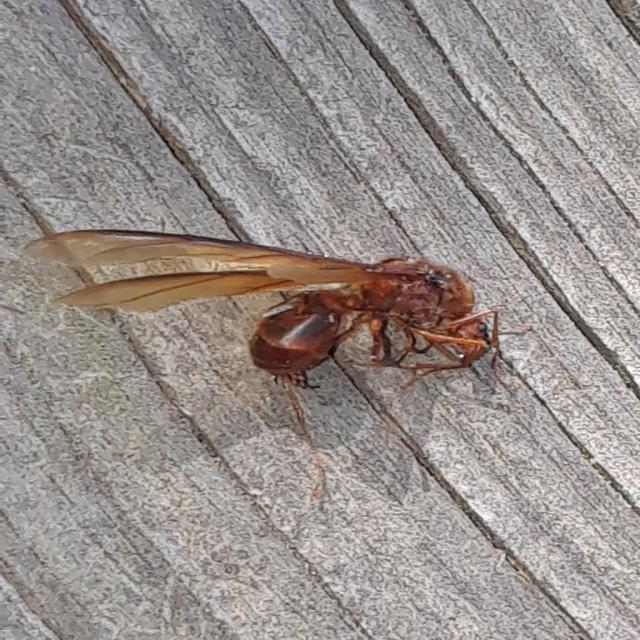Dead-Male-Alate: (24, 229, 534, 390)
